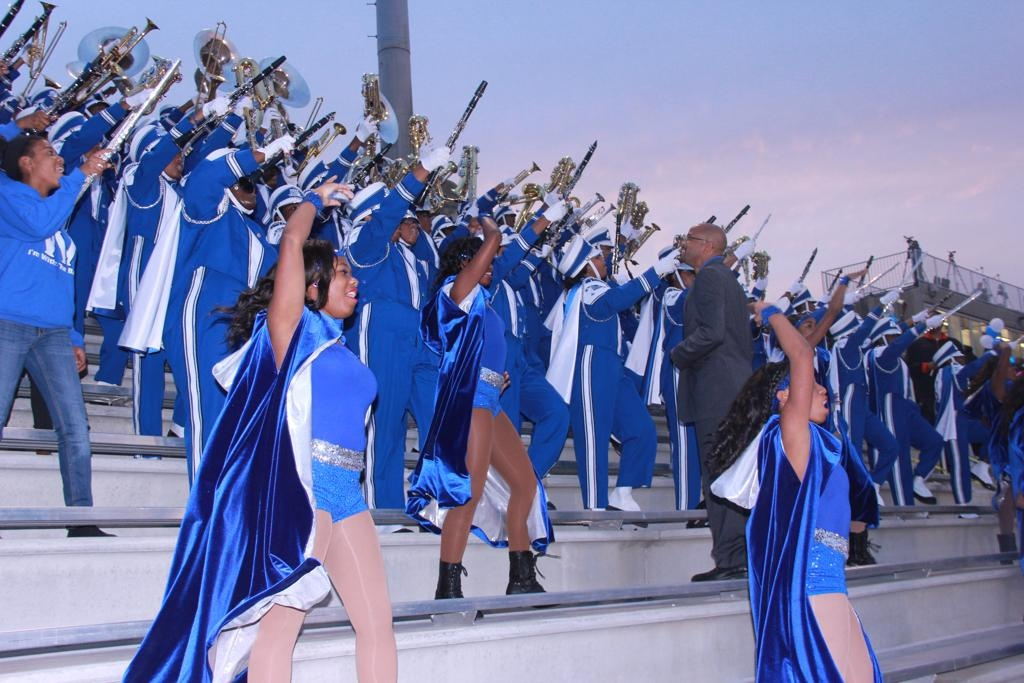human_face: (318, 256, 358, 314), (789, 366, 829, 422), (32, 136, 64, 186), (678, 224, 706, 262), (156, 142, 182, 178), (469, 249, 493, 285), (278, 200, 302, 232), (231, 180, 257, 206), (676, 263, 696, 293), (398, 214, 418, 243), (86, 102, 108, 128), (586, 252, 608, 276), (797, 318, 817, 343), (413, 206, 431, 232), (596, 241, 612, 261), (800, 298, 814, 316), (778, 290, 792, 304), (502, 212, 514, 226), (929, 323, 941, 337), (266, 172, 276, 186), (746, 296, 756, 310), (951, 354, 959, 366), (968, 376, 976, 387)
